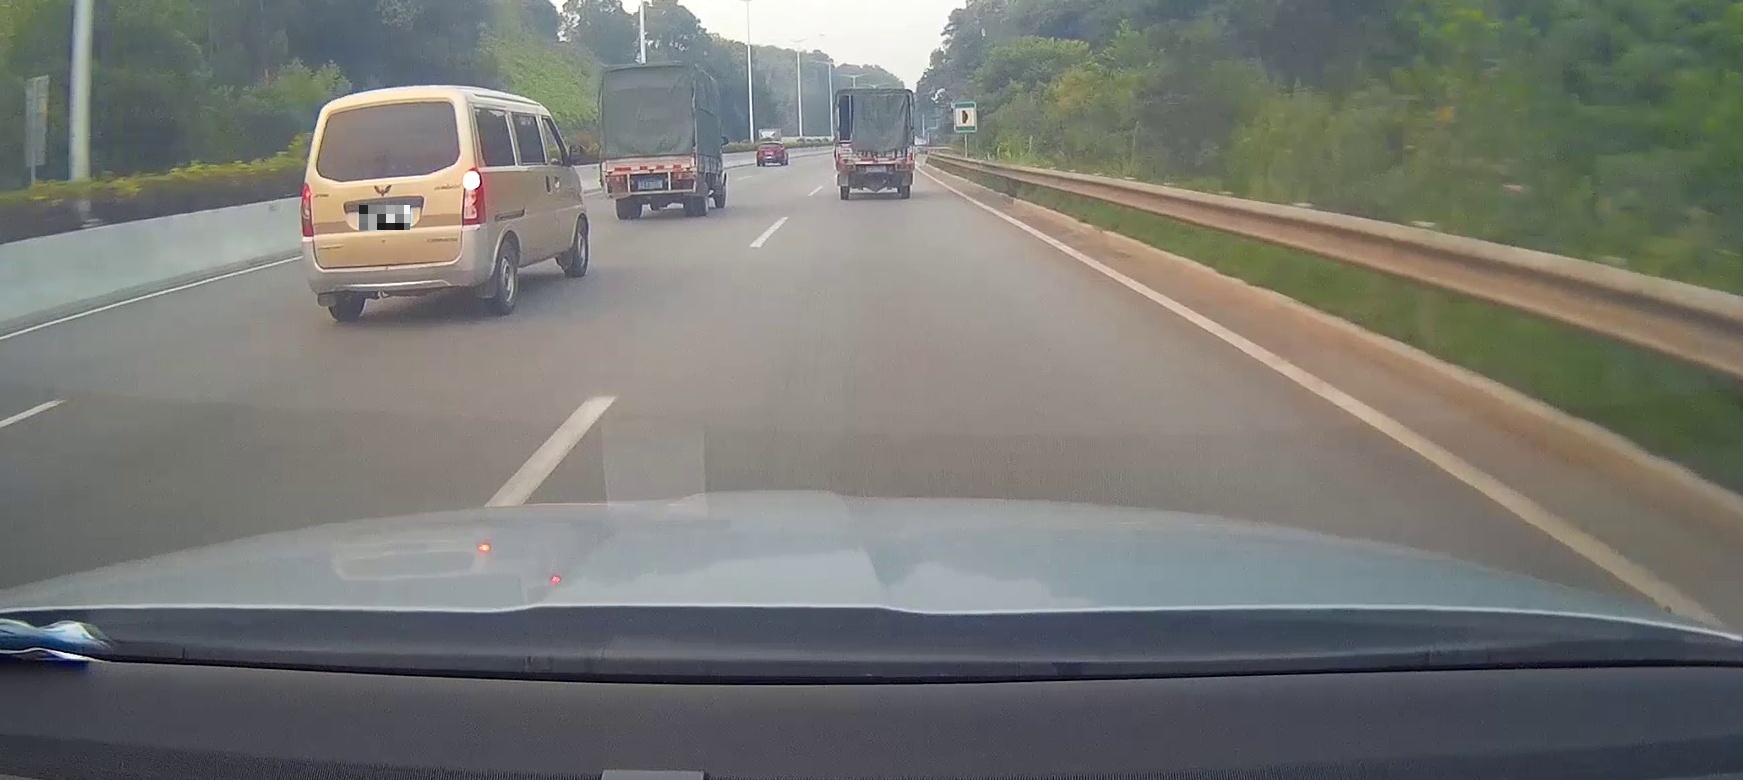L_light: (300, 182, 313, 237), (605, 174, 625, 183), (838, 164, 854, 170)
R_light: (461, 167, 486, 224), (673, 171, 695, 181), (898, 164, 913, 169)
T_light: (376, 99, 402, 108), (645, 161, 658, 166), (871, 153, 882, 157)
day-no: (597, 60, 697, 219), (834, 88, 915, 200)
day-right: (299, 84, 488, 321)
plate_1: (359, 204, 410, 230)
